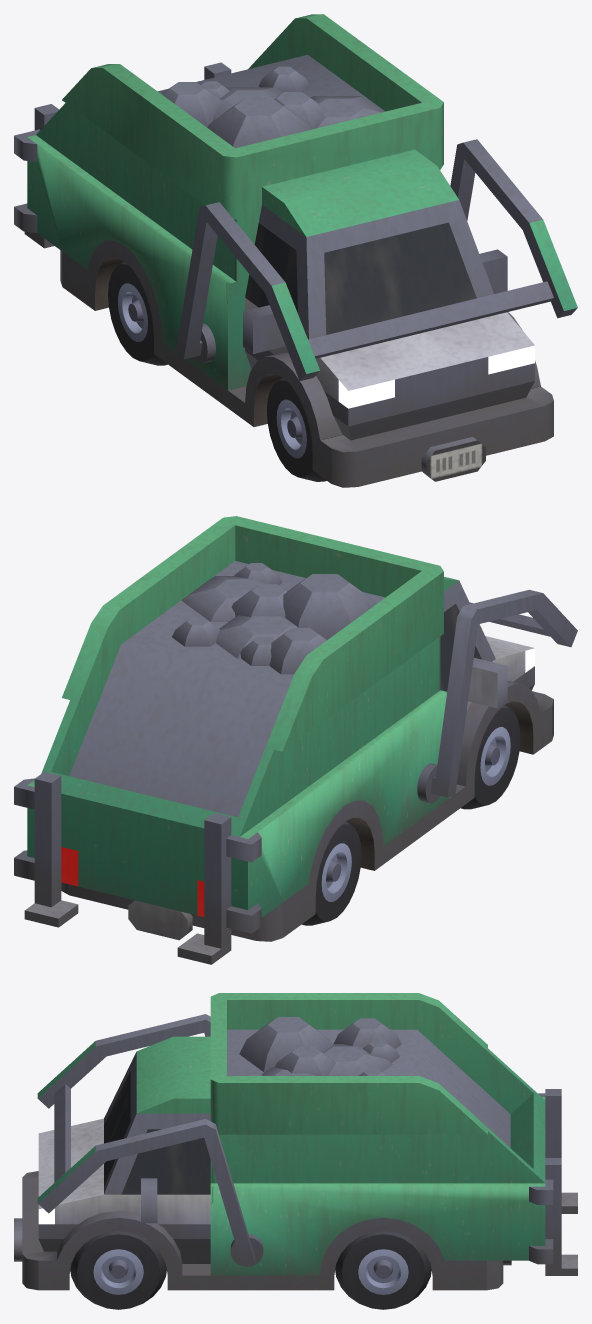
Rendered from garbage-truck-L2.glb.
3 renders of one model, top to bottom at view 1: azimuth 30°, elevation 25°; view 2: azimuth 150°, elevation 25°; view 3: azimuth 270°, elevation 25°, orthographic. The views are drawn at different scales.
Parts seen in each view (by area): view 1: body, arm, trash, wheel-back-right, wheel-front-right; view 2: body, trash, arm, wheel-front-right, wheel-back-right; view 3: body, arm, trash, wheel-front-left, wheel-back-left.
Boxes of the visible parts, left/top/right/bottom form: body: left=14, top=14, right=553, bottom=487; arm: left=176, top=139, right=577, bottom=380; trash: left=161, top=66, right=385, bottom=148; wheel-back-right: left=108, top=261, right=167, bottom=365; wheel-front-right: left=266, top=377, right=326, bottom=481; body: left=14, top=516, right=553, bottom=964; trash: left=172, top=563, right=376, bottom=674; arm: left=417, top=589, right=577, bottom=803; wheel-front-right: left=461, top=704, right=520, bottom=809; wheel-back-right: left=302, top=821, right=361, bottom=925; body: left=14, top=993, right=577, bottom=1290; arm: left=37, top=1014, right=263, bottom=1266; trash: left=239, top=1017, right=401, bottom=1075; wheel-front-left: left=70, top=1231, right=166, bottom=1309; wheel-back-left: left=335, top=1231, right=431, bottom=1309.
Size of the model in its own units: 1.6 by 1.6 by 3.45.
Materials: 7 (7 with a texture image).
